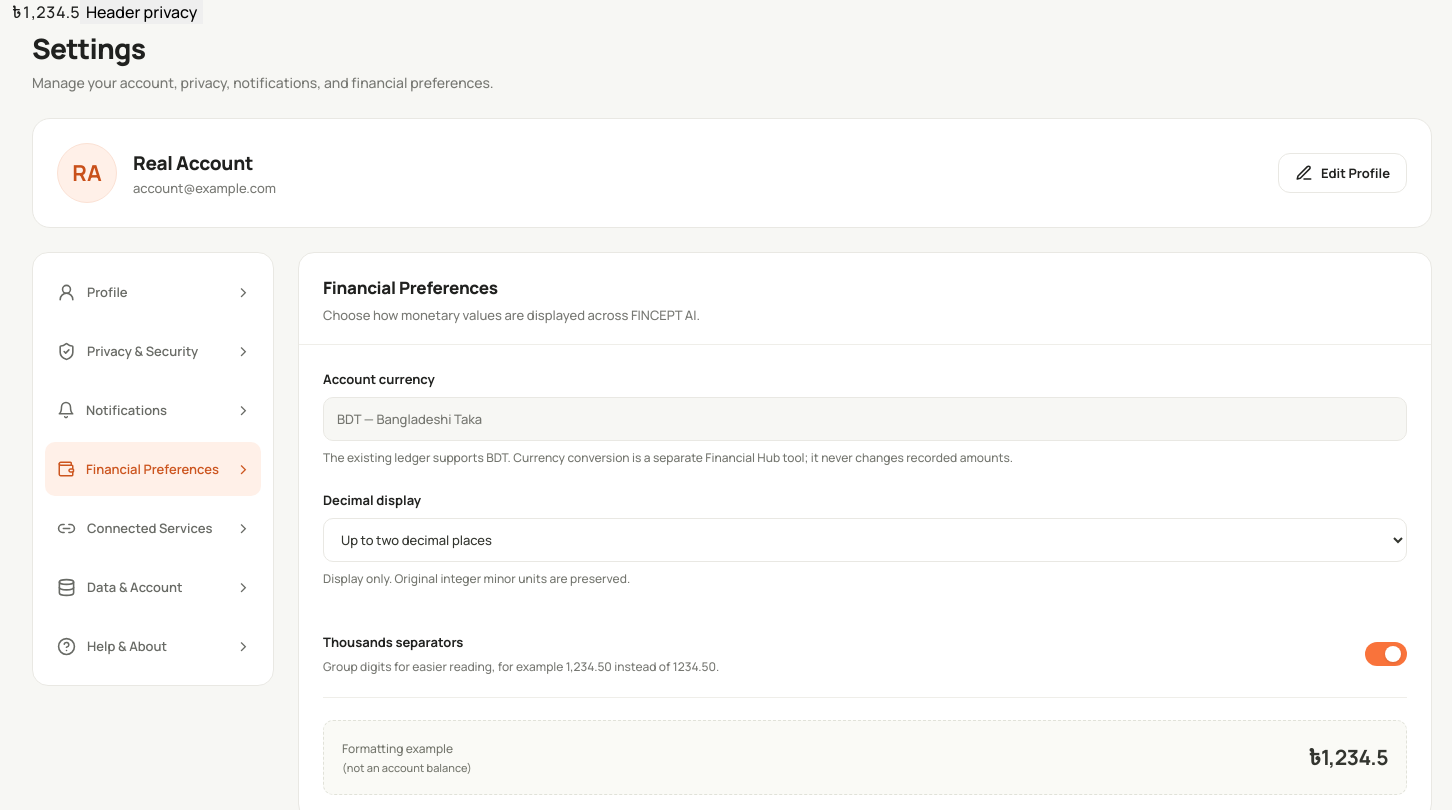
Test: applies persisted formatting to the shared Money component without changing its value
The width and height of the screenshot is (1452, 810).
Select "Always two decimal places" in the dropdown labelled "Decimal display": (865, 540) left=323, top=518, right=1407, bottom=562
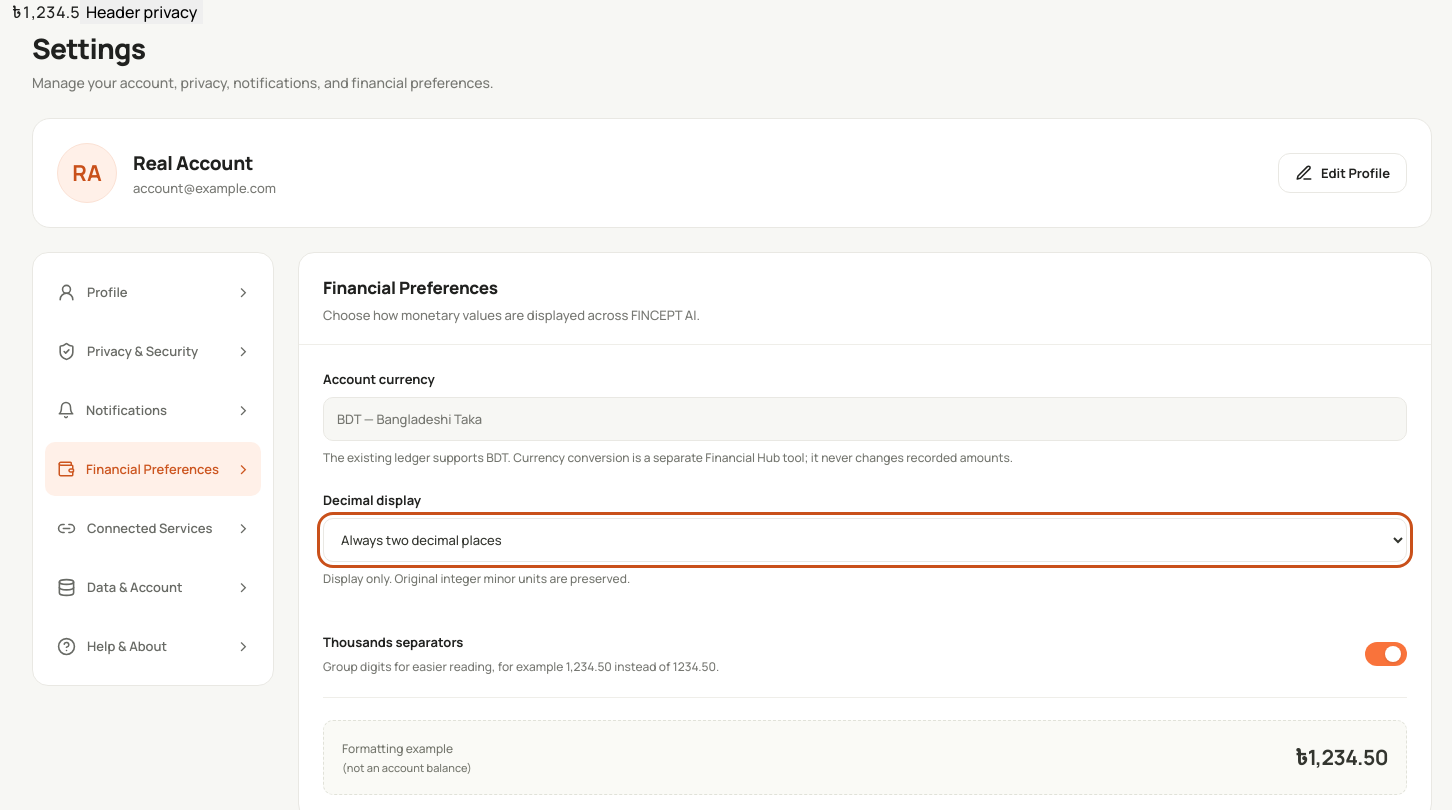
Click the switch named "Thousands separators": click(1386, 654) left=1365, top=642, right=1407, bottom=666
(page scrolled)
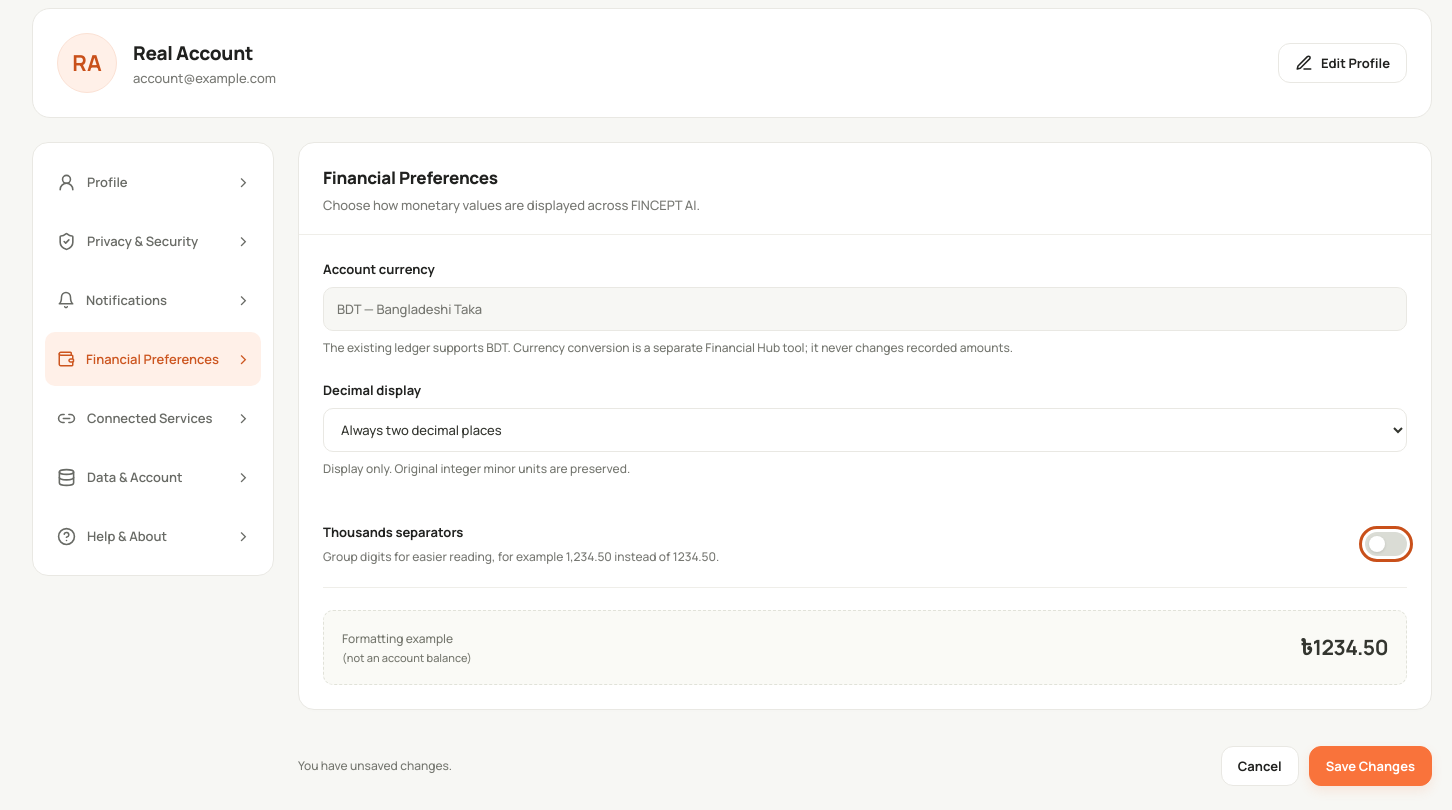
Click the button "Save Changes": click(1370, 766) left=1309, top=746, right=1432, bottom=786
(page scrolled)
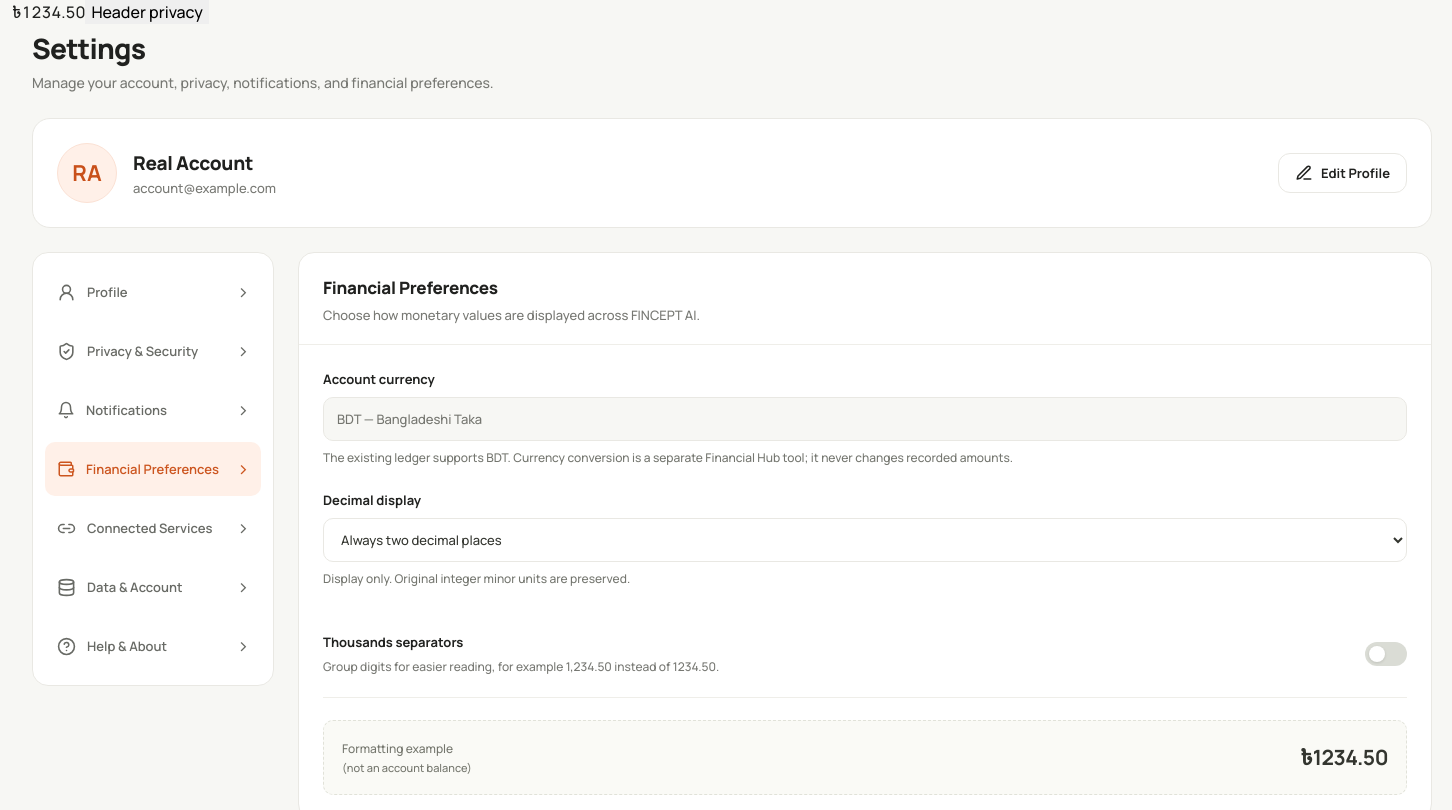
Expected: the 1st text "৳1234.50" is shown, left=12, top=1, right=85, bottom=23
